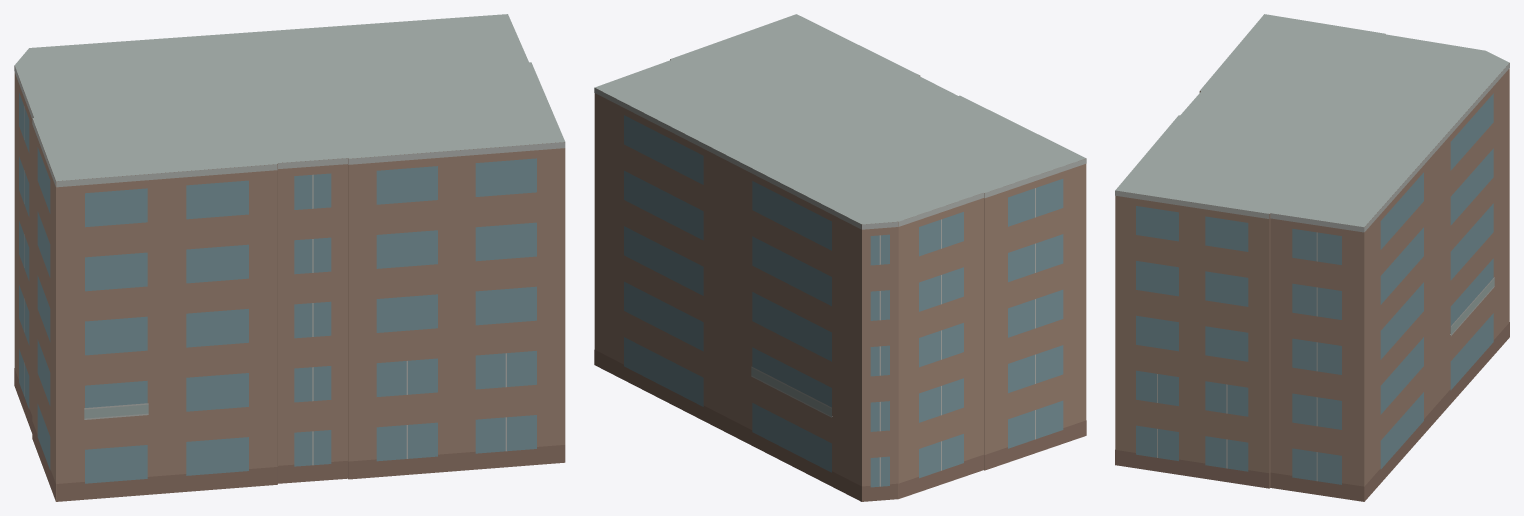
Rendered from survey-upis-32666149.glb.
The picture shows the model from 3 angles, left to right: view 1: azimuth 30°, elevation 25°; view 2: azimuth 150°, elevation 25°; view 3: azimuth 270°, elevation 25°; orthographic projection. The views are drawn at different scales.
Parts seen in each view (by area): view 1: survey-upis-32666149.tmp; view 2: survey-upis-32666149.tmp; view 3: survey-upis-32666149.tmp.
Boxes of the visible parts, bbox=[...] form: survey-upis-32666149.tmp: bbox=[14, 14, 565, 501]; survey-upis-32666149.tmp: bbox=[594, 14, 1086, 501]; survey-upis-32666149.tmp: bbox=[1115, 14, 1509, 501].
Size of the model in its own units: 21.34 by 12.81 by 16.69.
